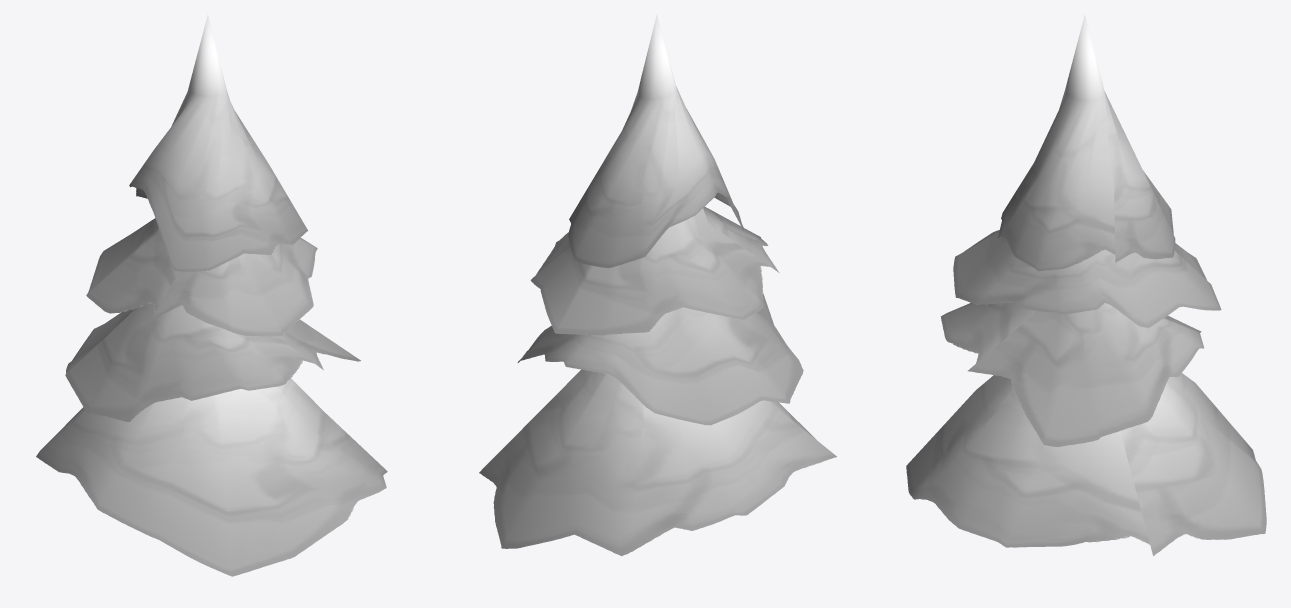
File: TestPineTree.fbx
3 renders of one model, left to right at view 1: azimuth 30°, elevation 25°; view 2: azimuth 150°, elevation 25°; view 3: azimuth 270°, elevation 25°, orthographic.
Parts seen in each view (by area): view 1: Cylinder.006, Cylinder.008, Cylinder.007, Cylinder.009; view 2: Cylinder.006, Cylinder.007, Cylinder.009, Cylinder.008; view 3: Cylinder.006, Cylinder.007, Cylinder.008, Cylinder.009.
Part boxes in pixels (box(x1,y1,x2,y2)): Cylinder.006: box(36, 378, 387, 576); Cylinder.008: box(129, 14, 307, 271); Cylinder.007: box(65, 302, 360, 421); Cylinder.009: box(86, 218, 317, 336); Cylinder.006: box(479, 369, 836, 556); Cylinder.007: box(517, 294, 803, 425); Cylinder.009: box(530, 206, 779, 335); Cylinder.008: box(568, 14, 744, 268); Cylinder.006: box(906, 373, 1266, 556); Cylinder.007: box(940, 302, 1204, 446); Cylinder.008: box(998, 14, 1175, 271); Cylinder.009: box(953, 230, 1221, 328).
Size of the model in its own units: 105 by 151 by 105.
